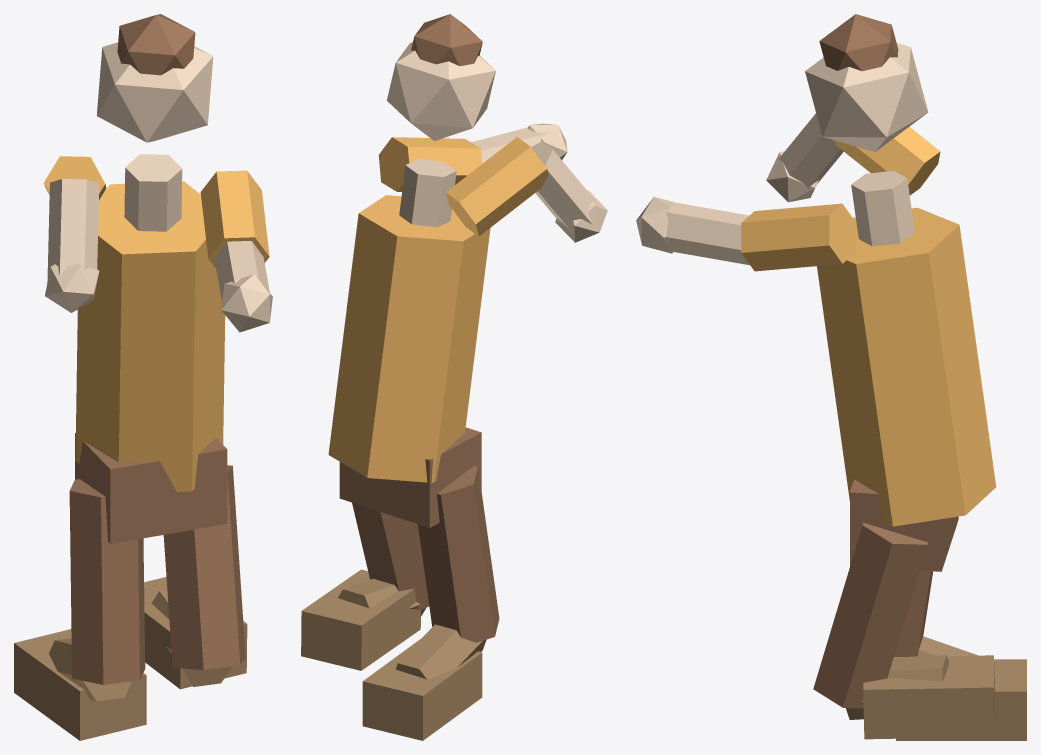
File: pose_attack_1_18.glb
The picture shows the model from 3 angles, left to right: view 1: azimuth 30°, elevation 25°; view 2: azimuth 150°, elevation 25°; view 3: azimuth 270°, elevation 25°; orthographic projection. The views are drawn at different scales.
Visible parts, largest first — view 1: pose; view 2: pose; view 3: pose.
Boxes of the visible parts, x1,y1,x2,y2 form: pose: (14, 14, 272, 740); pose: (301, 14, 607, 740); pose: (636, 14, 1026, 740).
Bounding box in the file's own units: 0.4909 × 1.46 × 0.7173.
